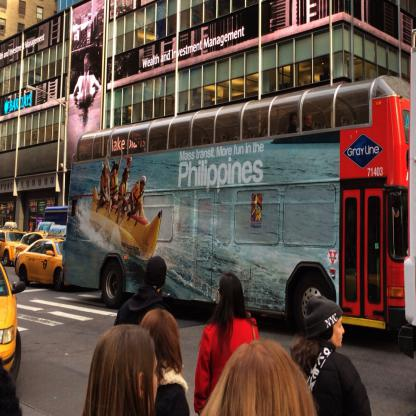Bus: (60, 72, 412, 334), (398, 25, 416, 359), (43, 204, 67, 223)
